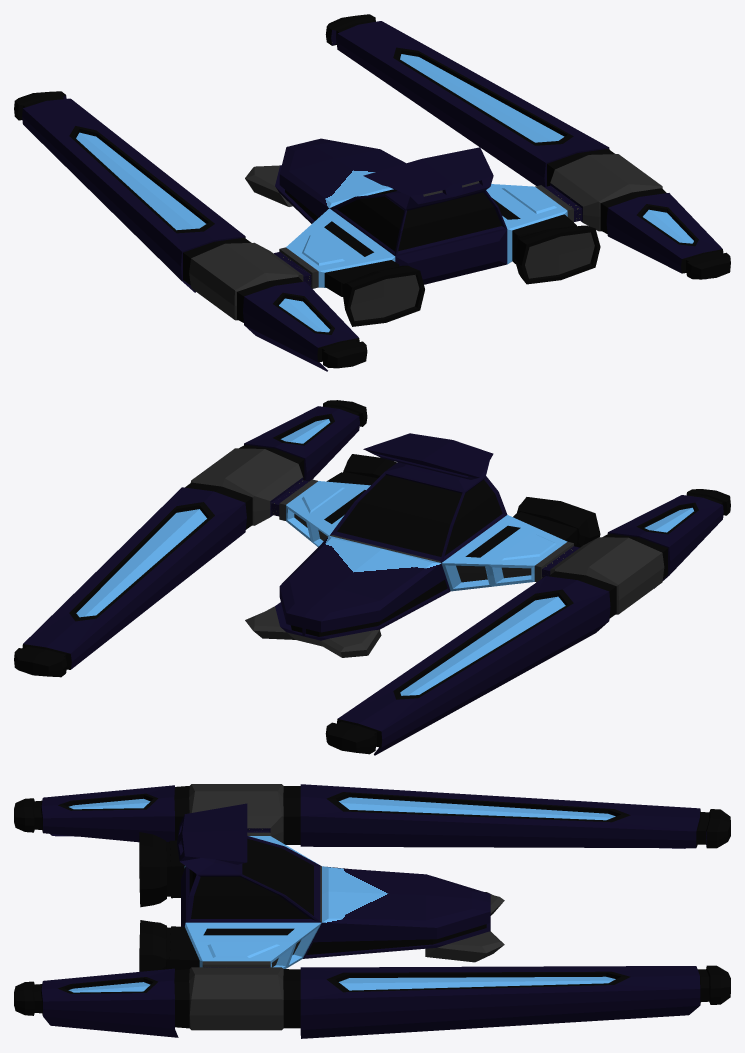
File: fripeout_ship_2.gltf
The picture shows the model from 3 angles, top to bottom: view 1: azimuth 30°, elevation 25°; view 2: azimuth 150°, elevation 25°; view 3: azimuth 270°, elevation 25°; orthographic projection. The views are drawn at different scales.
Visible parts, largest first — view 1: Spaceship; view 2: Spaceship; view 3: Spaceship.
Part boxes in pixels (x1,y1,x2,y2): Spaceship: [14, 14, 730, 371]; Spaceship: [14, 400, 730, 755]; Spaceship: [14, 784, 730, 1038].
Bounding box in the file's own units: 10.03 × 2.33 × 14.04.
Materials: 1 (1 with a texture image).
